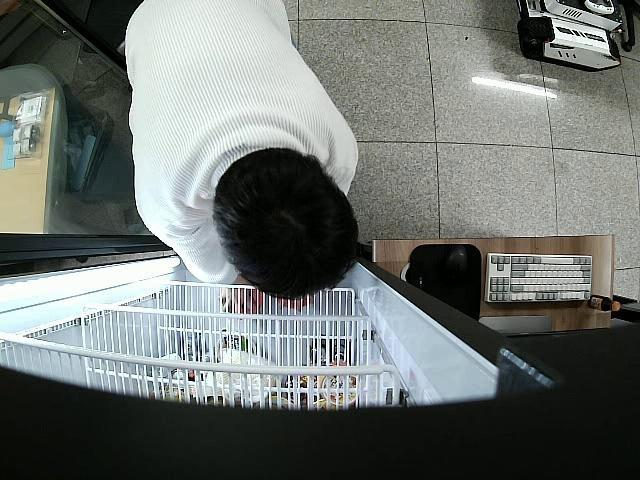01_ShinRamen_L: (222, 290, 265, 314)
